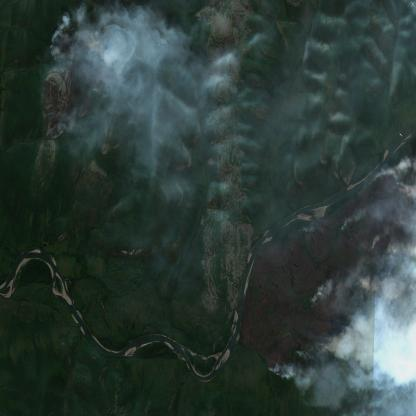fire: (267, 162, 416, 382), (41, 26, 128, 144)
